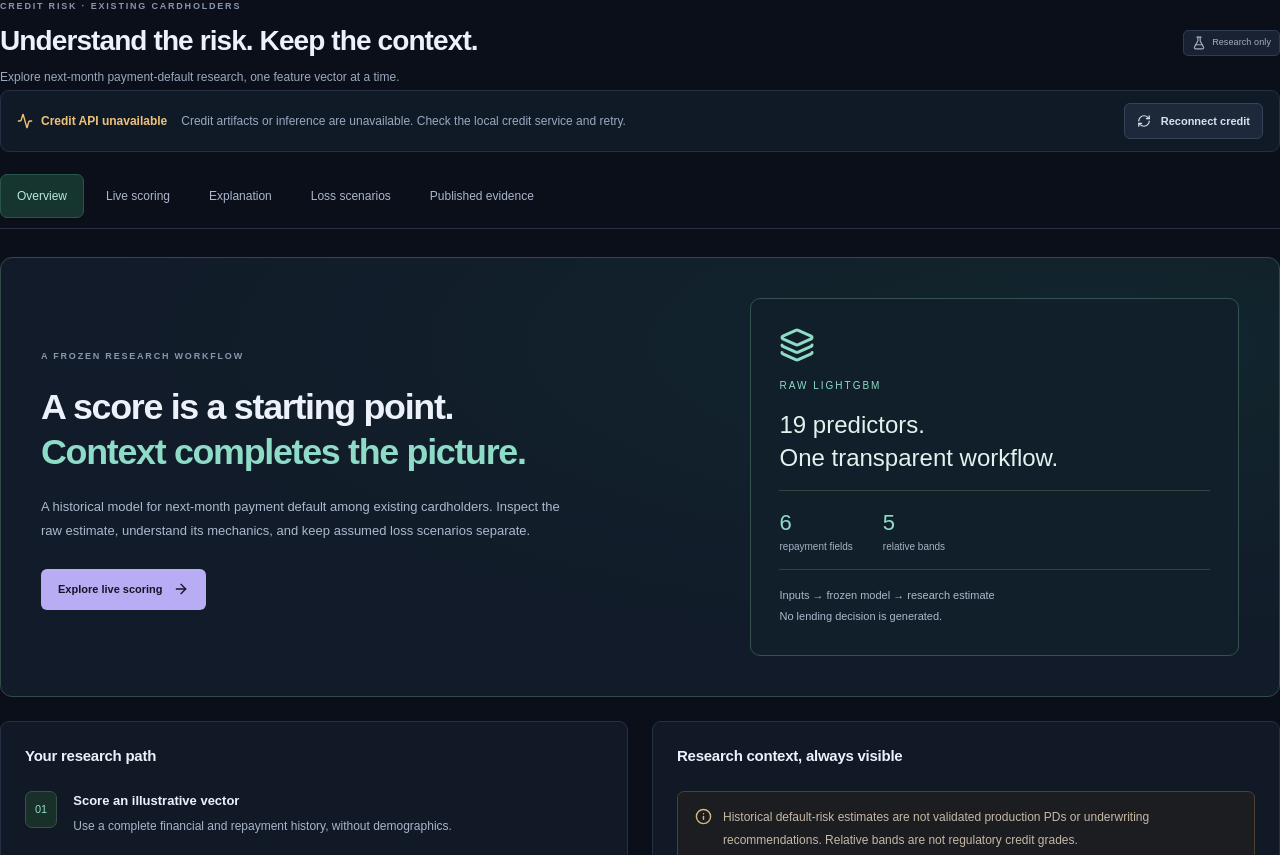
Test case: credit research workspace › keeps published evidence and calculator available when credit readiness fails
Expected: the text "Credit API unavailable" is shown, left=17, top=112, right=167, bottom=130
Click the tab "Live scoring". click: (138, 196)
box: left=89, top=174, right=187, bottom=218
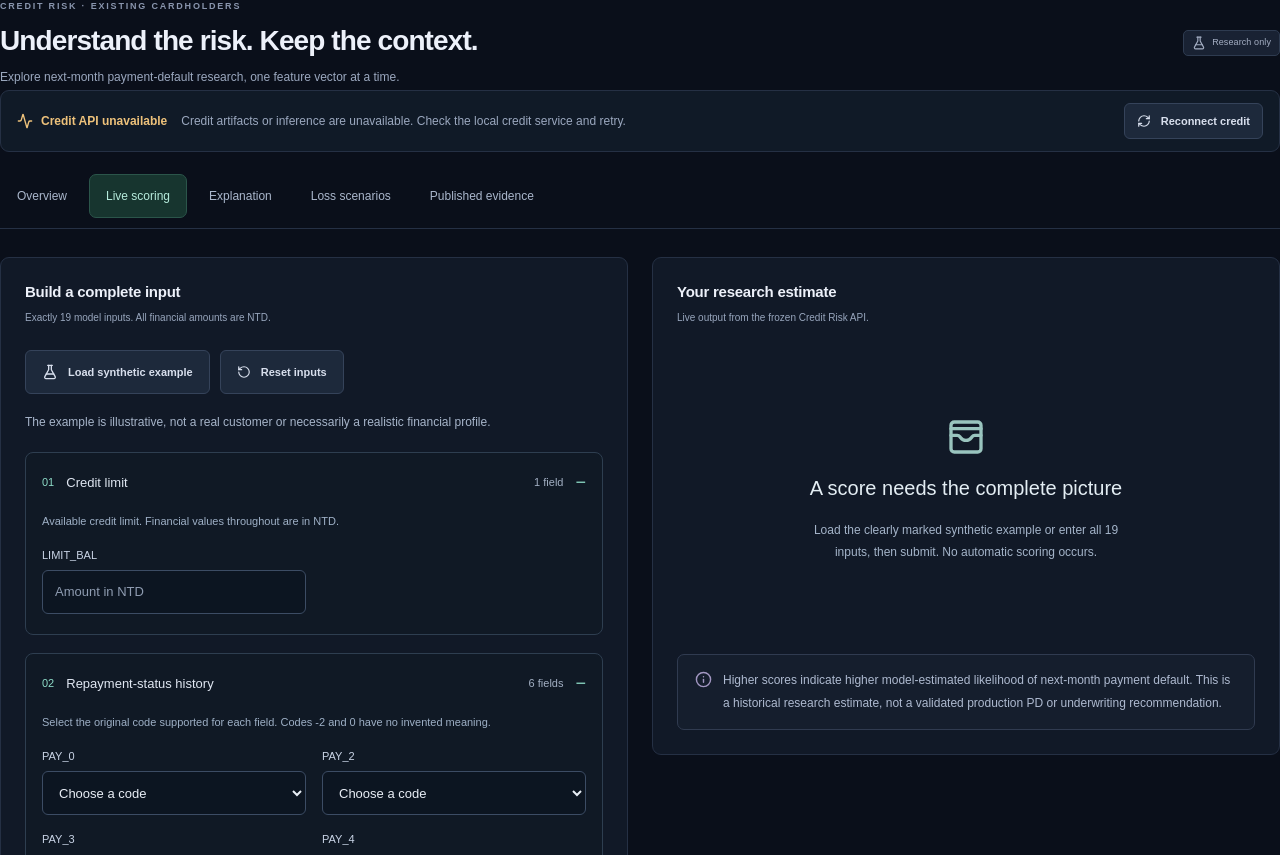
Click the tab "Published evidence". click: (482, 196)
box: left=413, top=174, right=551, bottom=218
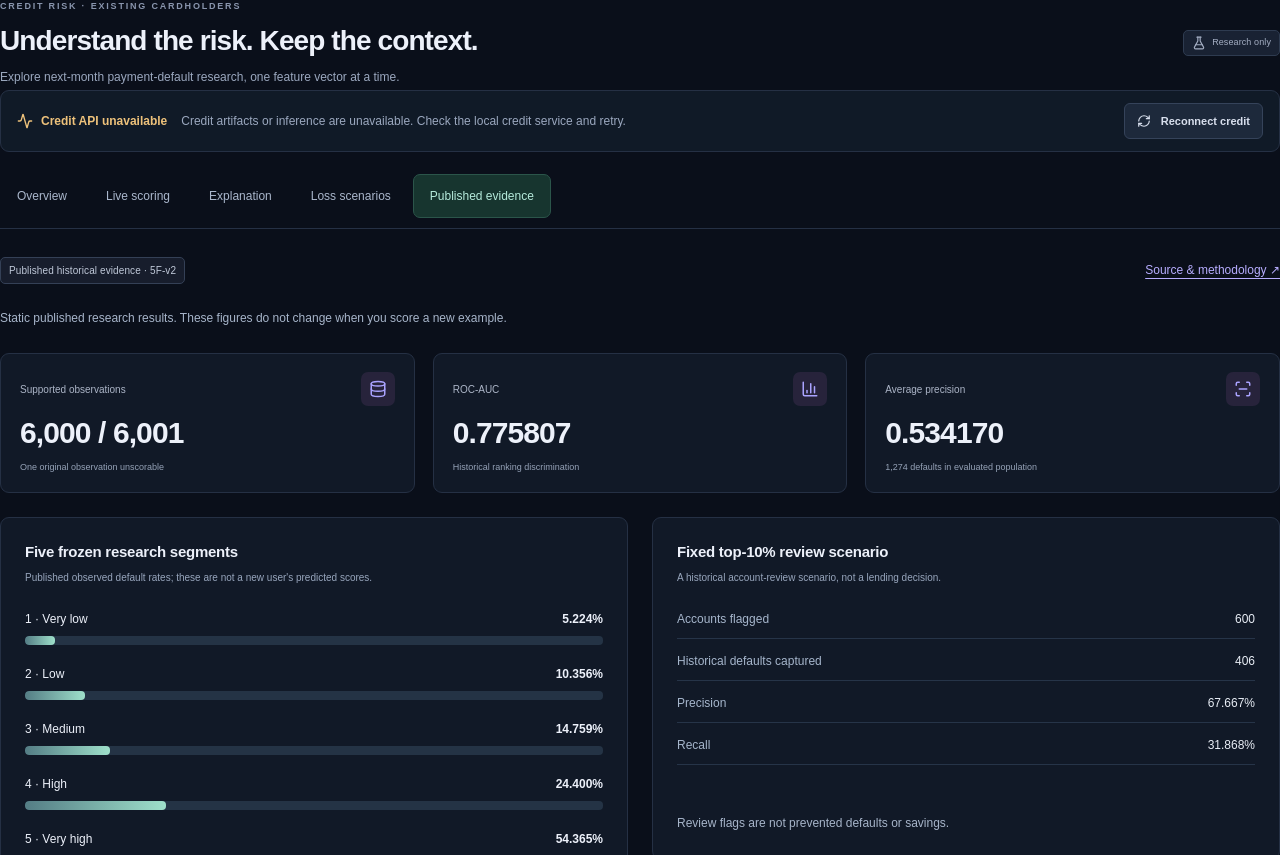
Expected: the text "6,000 / 6,001" is shown, left=20, top=416, right=184, bottom=450
Expected: the text "0.775807" is shown, left=453, top=416, right=571, bottom=450
